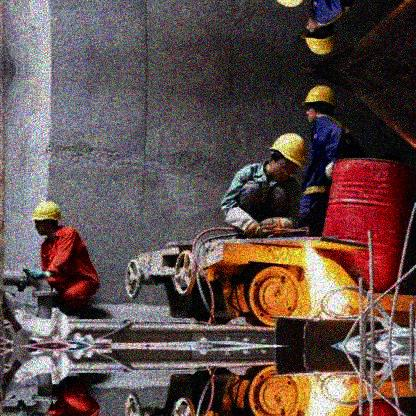helmet: (269, 128, 305, 183), (302, 18, 343, 59), (299, 81, 336, 121), (30, 199, 64, 236)
